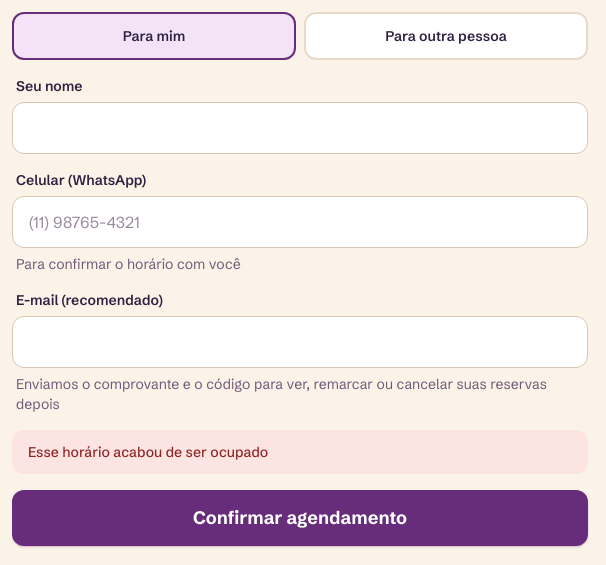
Test case: PatientForm › mostra o erro de fora (ex.: API) e o erro local vence
The width and height of the screenshot is (606, 565).
Click the button "Confirmar agendamento" at (300,518), box [12,490,588,546]
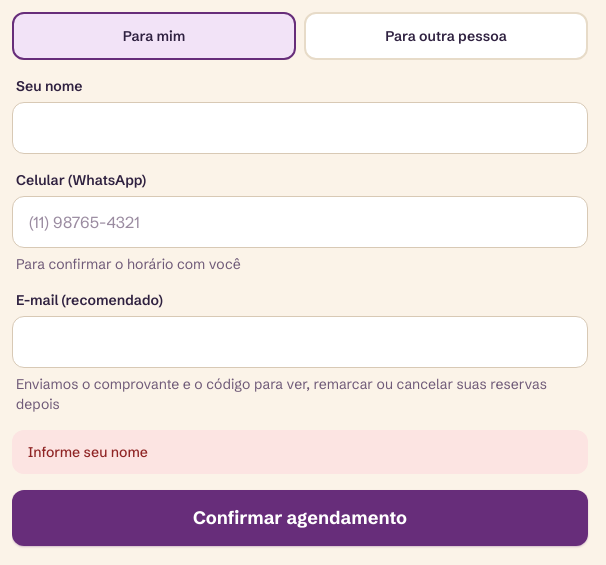
Check: the message reads "Informe seu nome", box [28,443,148,461]
